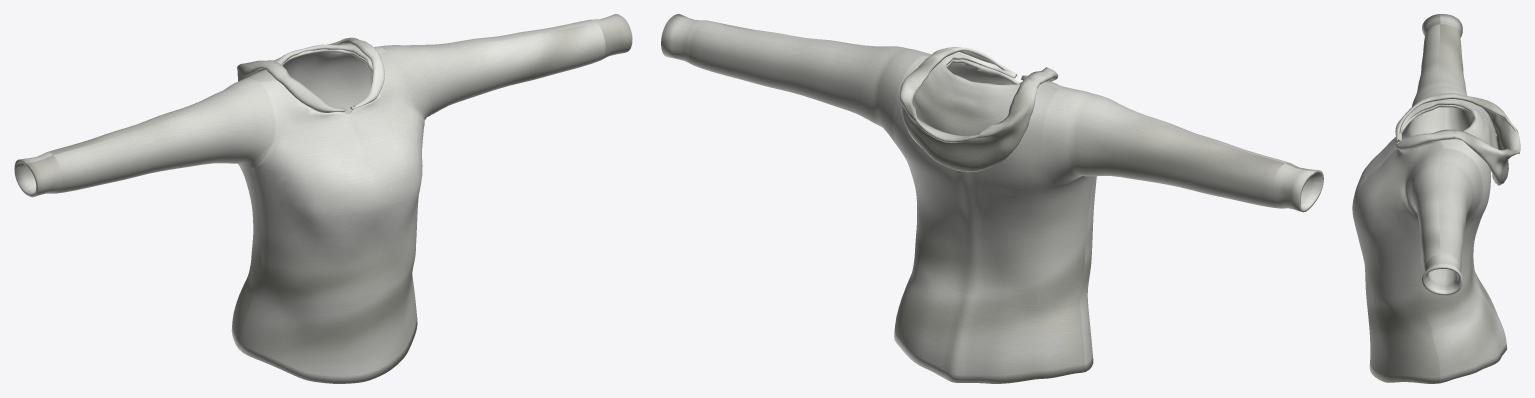
Rendered from Huku03.fbx.
3 views of the same model, side by side, from view 1: azimuth 30°, elevation 25°; view 2: azimuth 150°, elevation 25°; view 3: azimuth 270°, elevation 25° (orthographic). The views are drawn at different scales.
Visible parts, largest first — view 1: Huku03; view 2: Huku03; view 3: Huku03.
Boxes of the visible parts, x1=… form: Huku03: x1=14, y1=14, x2=632, y2=383; Huku03: x1=661, y1=14, x2=1323, y2=383; Huku03: x1=1352, y1=14, x2=1520, y2=383.
Size of the model in its own units: 120 by 56.33 by 33.81.
